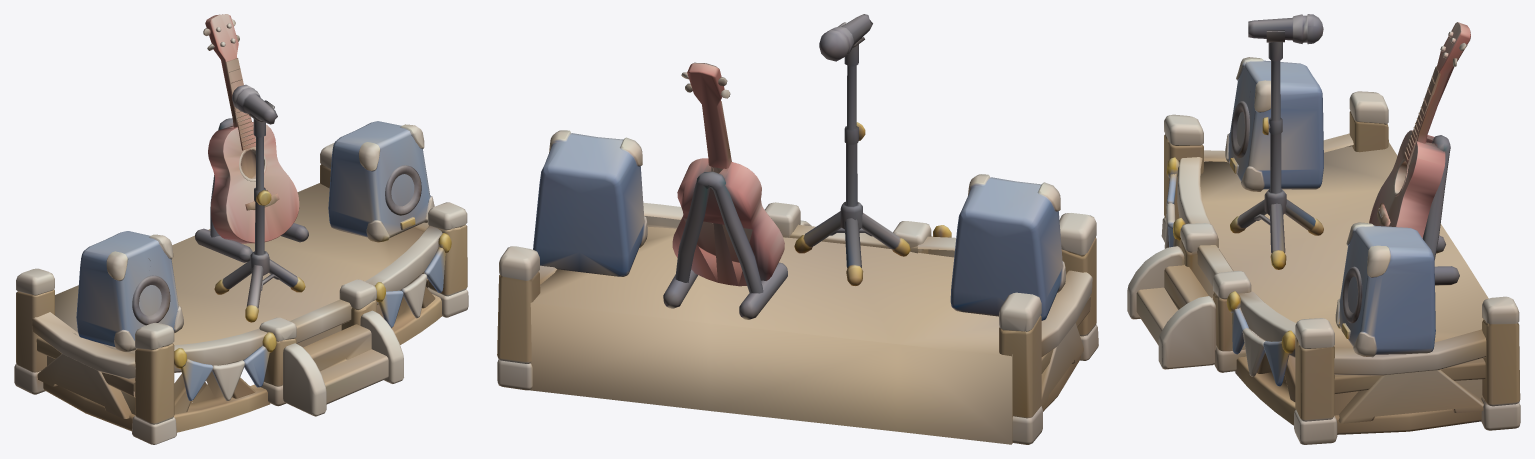
Rendered from stage.glb.
3 renders of one model, left to right at view 1: azimuth 30°, elevation 25°; view 2: azimuth 150°, elevation 25°; view 3: azimuth 270°, elevation 25°, orthographic. The views are drawn at different scales.
Visible parts, largest first — view 1: SM_stage; view 2: SM_stage; view 3: SM_stage.
Part boxes in pixels (<box>): SM_stage: <box>14,14,468,444</box>; SM_stage: <box>497,14,1098,444</box>; SM_stage: <box>1127,14,1520,444</box>.
Bounding box in the file's own units: 1.52 × 1 × 1.1.
